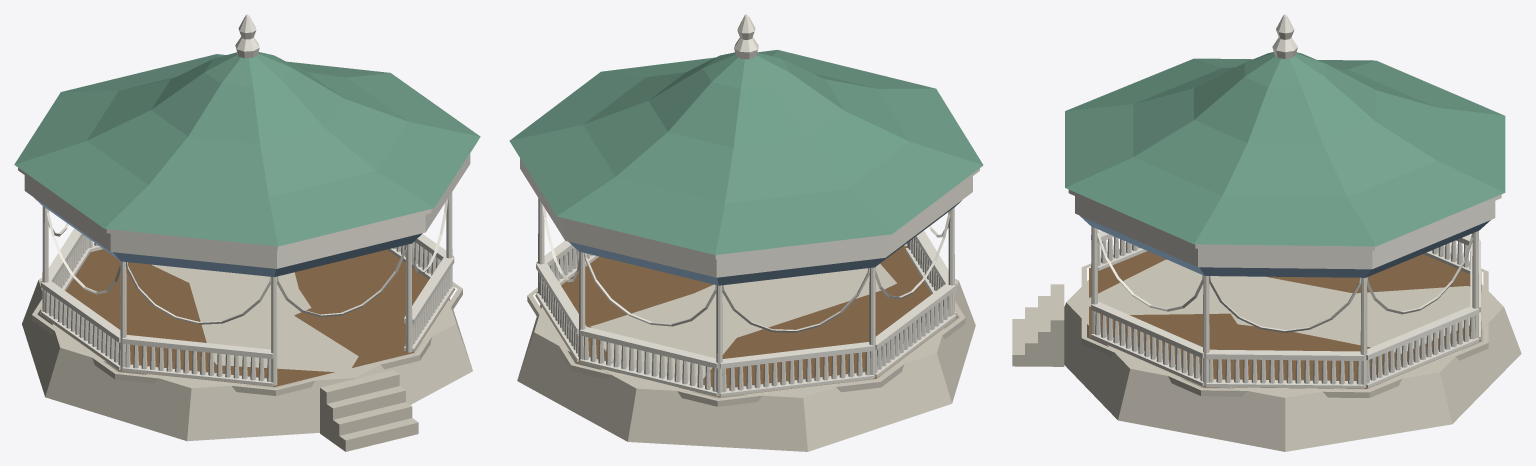
The model's file is kensington_gardens_bandstand.glb.
The picture shows the model from 3 angles, left to right: view 1: azimuth 30°, elevation 25°; view 2: azimuth 150°, elevation 25°; view 3: azimuth 270°, elevation 25°; orthographic projection.
Bounding box in the file's own units: 11.06 × 8.77 × 11.91.
